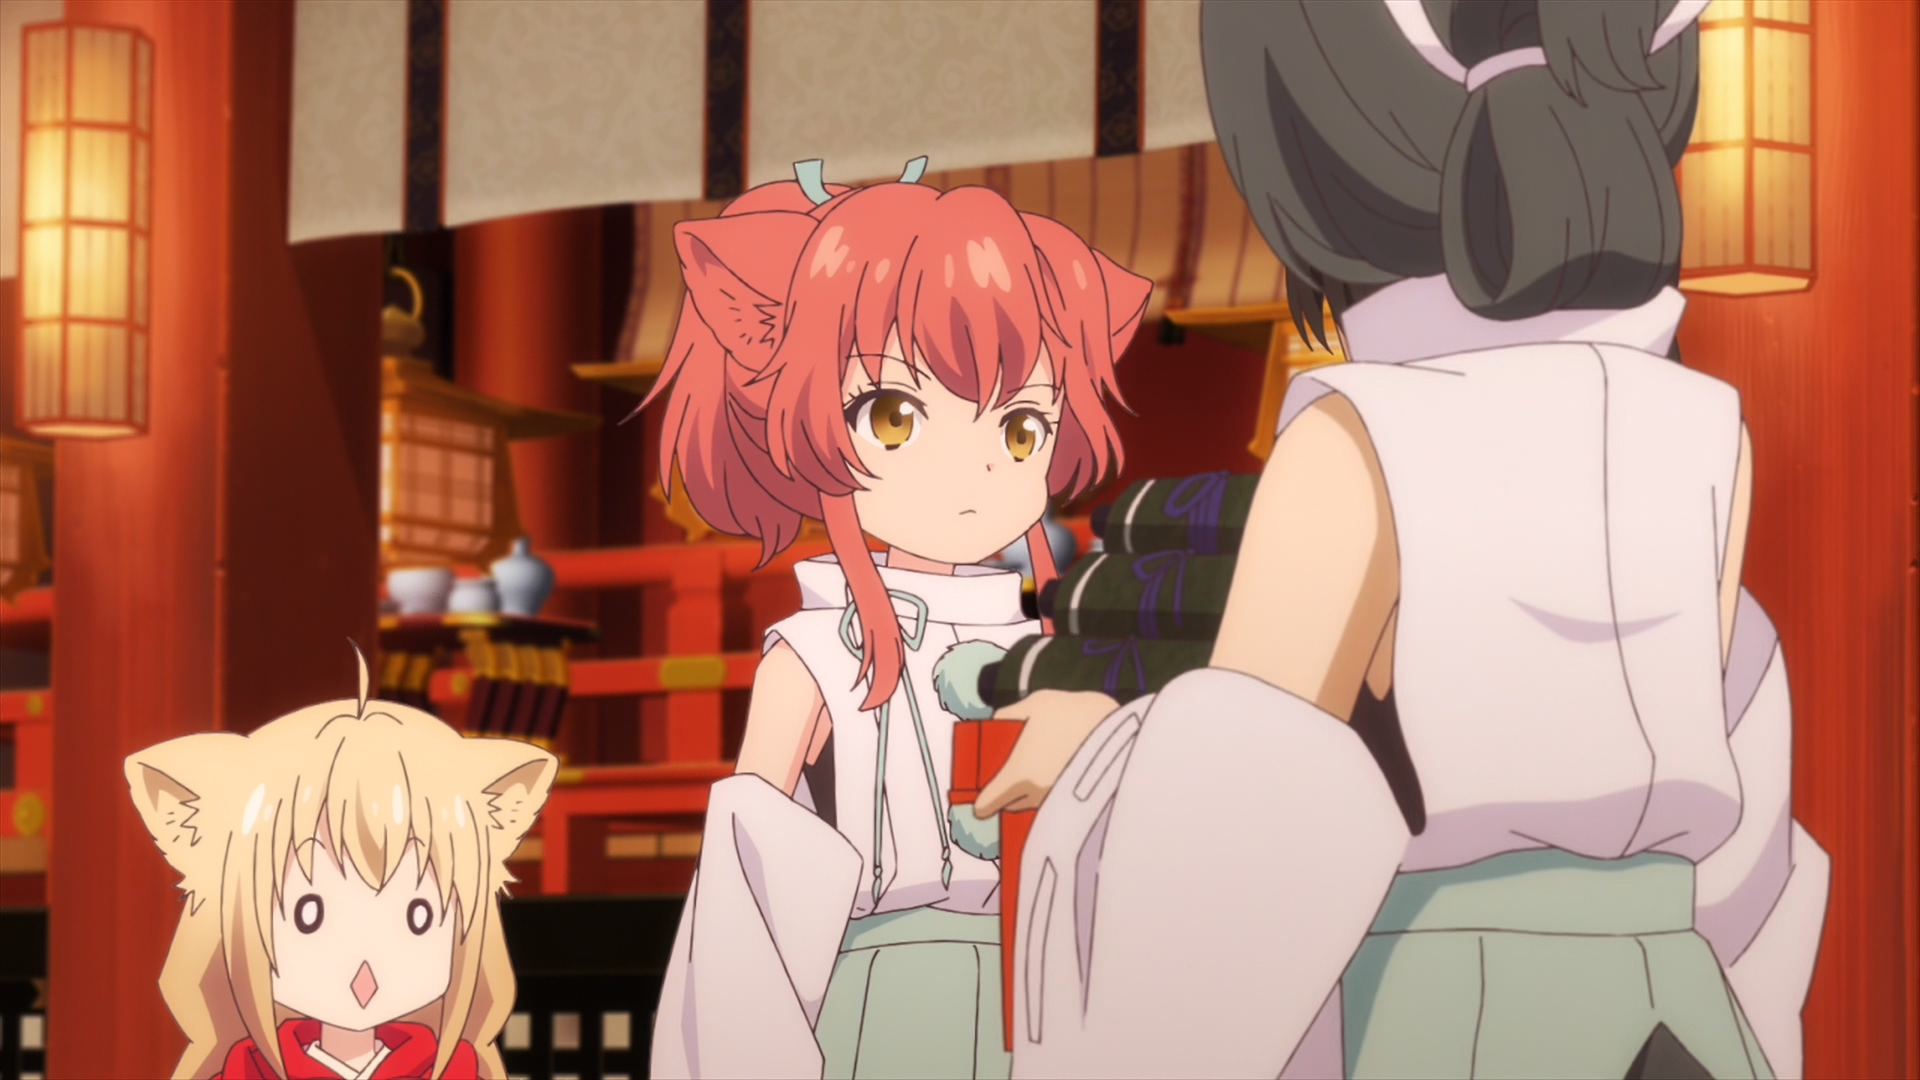其他: (975, 1, 1832, 1080)
柚: (123, 638, 556, 1080)
椿: (620, 156, 1155, 1080)
